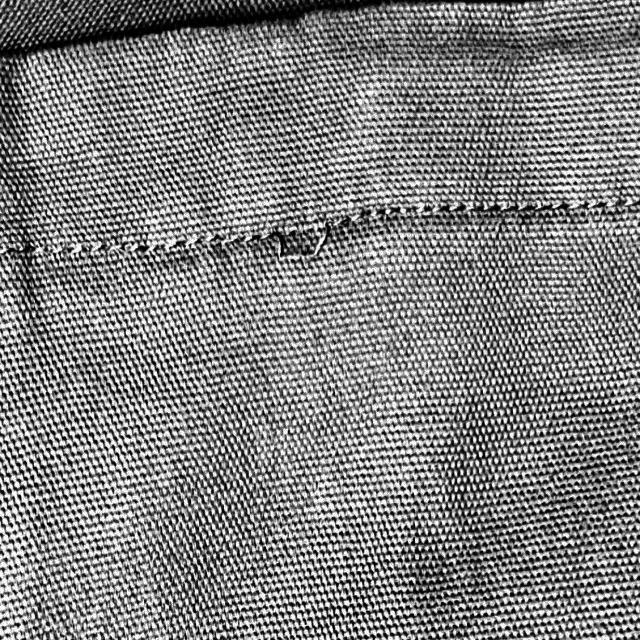Sewing_error: (254, 204, 354, 272)
